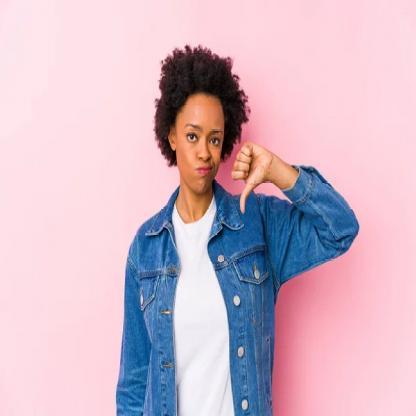thumb_down: (228, 134, 271, 214)
